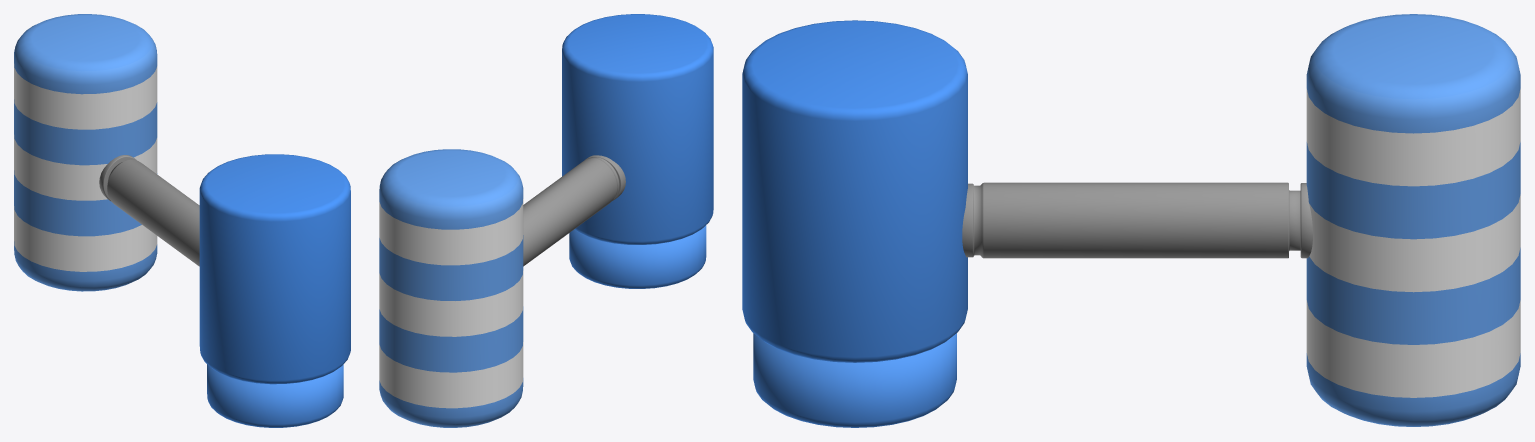
File: trap_hammer_2.glb
3 views of the same model, side by side, from view 1: azimuth 30°, elevation 25°; view 2: azimuth 150°, elevation 25°; view 3: azimuth 270°, elevation 25° (orthographic). The views are drawn at different scales.
Visible parts, largest first — view 1: Cylinder.012_visual; view 2: Cylinder.012_visual; view 3: Cylinder.012_visual.
Part boxes in pixels (x1,y1,x2,y2): Cylinder.012_visual: (14, 14, 350, 427); Cylinder.012_visual: (379, 14, 713, 427); Cylinder.012_visual: (742, 14, 1520, 427).
Size of what is drawn, in the model's own units: 1.36 by 2.26 by 4.68.
1 material, 1 textured.
